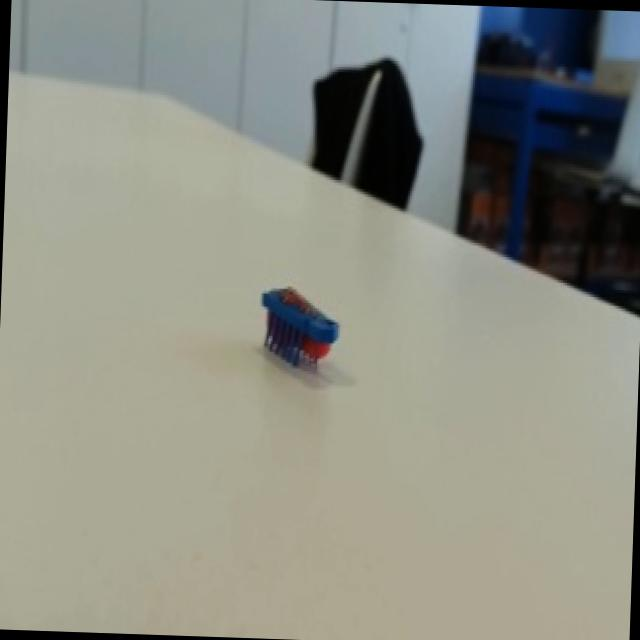1_NanoBug_Azul: (215, 252, 385, 400)
